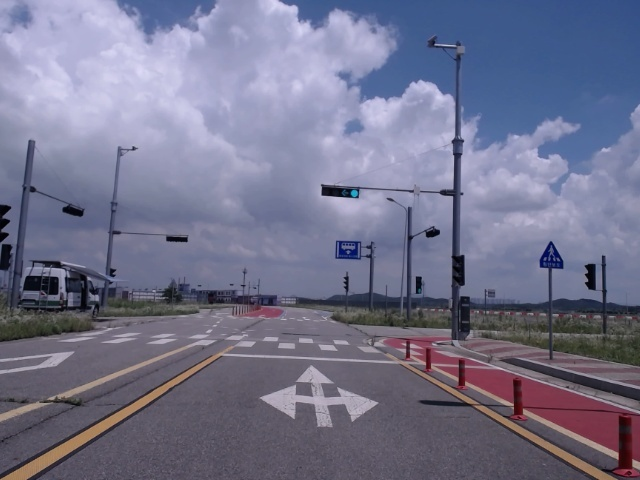all_green_4: (318, 185, 359, 197)
